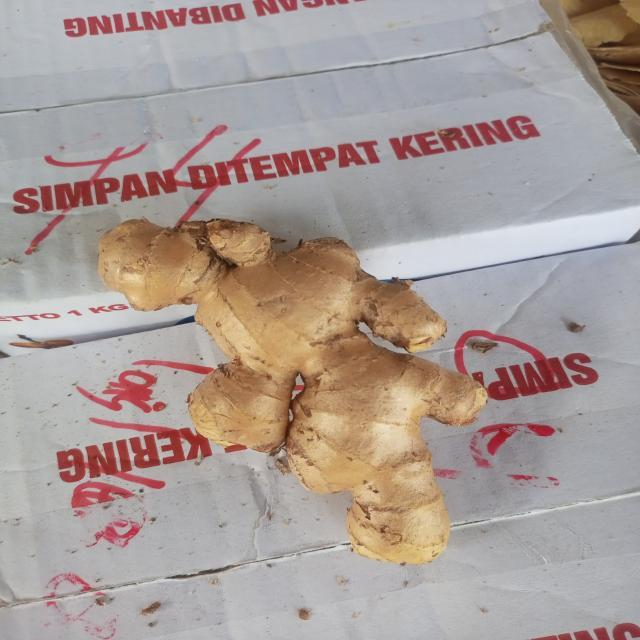ginger: (102, 220, 472, 558)
